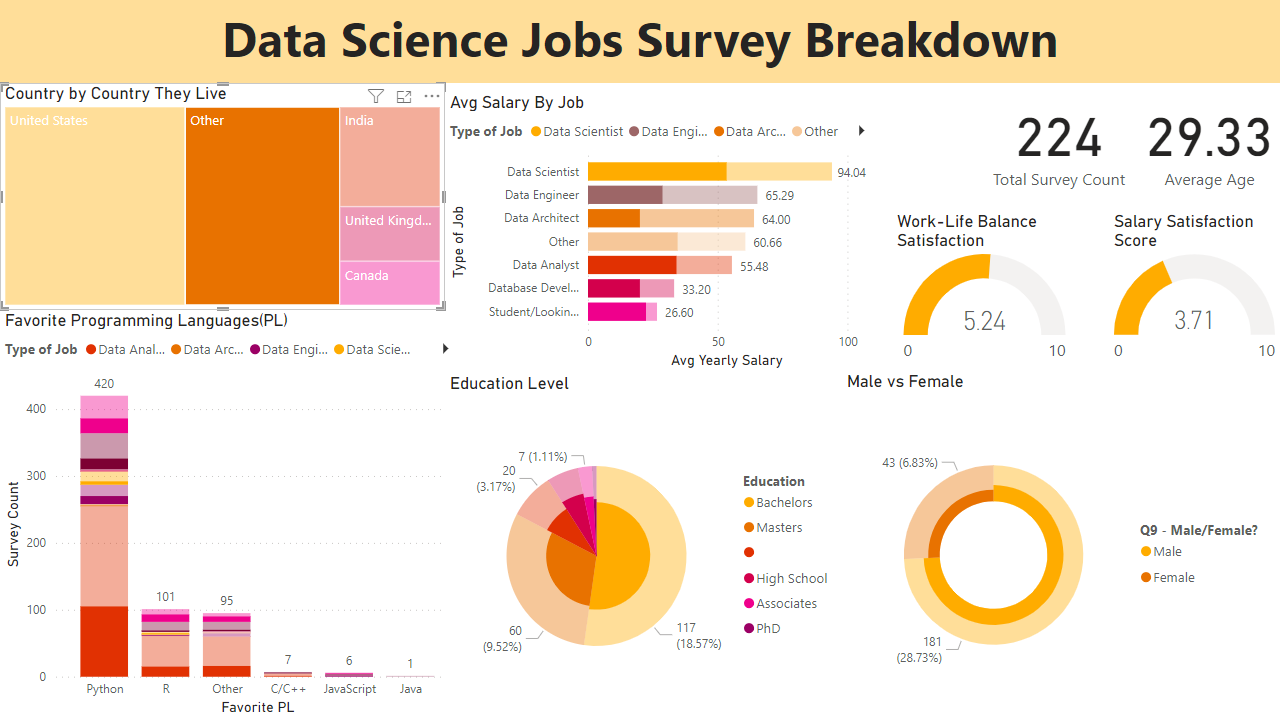

This screenshot's page, from the dashboard's own definition file:
{"tool":"powerbi","page":{"name":"Page 1","canvas":[1280,720],"ordinal":0},"visuals":[{"type":"textbox","box":[0,0,1280,83.2],"z":0},{"type":"card","fields":{"Values":["Count(Data Professional Survey.Unique ID)"]},"box":[978.7,84,159.9,111.7],"z":1000},{"type":"card","fields":{"Values":["Avg(Data Professional Survey.Q10 - Current Age)"]},"box":[1138.6,84,141.4,111.7],"z":2000},{"type":"barChart","title":"Avg Salary By Job","fields":{"Category":["Data Professional Survey.Q1 - Which Title Best Fits your Current Role?.1"],"Y":["Avg(Data Professional Survey.Average Salary)"],"Series":["Data Professional Survey.Q1 - Which Title Best Fits your Current Role?.1"]},"box":[444.8,92.5,436.6,280.4],"z":3000},{"type":"columnChart","title":"Favorite Programming Languages(PL)","fields":{"Category":["Data Professional Survey.Q5 - Favorite Programming Language.1"],"Y":["Count(Data Professional Survey.Unique ID)"],"Series":["Data Professional Survey.Q1 - Which Title Best Fits your Current Role?.1"]},"box":[0,310.2,465.4,409.9],"z":4000},{"type":"treemap","fields":{"Group":["Data Professional Survey.Q11 - Which Country do you live in?.1"],"Values":["CountNonNull(Data Professional Survey.Q11 - Which Country do you live in?.1)"]},"box":[0,83.2,444.8,227],"z":5000},{"type":"donutChart","title":"Male vs Female","fields":{"Y":["CountNonNull(Data Professional Survey.Q9 - Male/Female?)"],"Category":["Data Professional Survey.Q9 - Male/Female?","Data Professional Survey.Q11 - Which Country do you live in?.1"]},"box":[842.4,370.9,437.6,349.3],"z":6000},{"type":"gauge","title":"Salary Satisfaction Score","fields":{"Y":["Avg(Data Professional Survey.Q6 - How Happy are you in your Current Position with the following? (Salary))"],"MinValue":["Min(Data Professional Survey.Q6 - How Happy are you in your Current Position with the following? (Salary))"],"MaxValue":["Max(Data Professional Survey.Q6 - How Happy are you in your Current Position with the following? (Salary))"]},"box":[1109.5,210.6,170.5,160.3],"z":7000},{"type":"gauge","title":"Work-Life Balance Satisfaction","fields":{"Y":["Avg(Data Professional Survey.Q6 - How Happy are you in your Current Position with the following? (Work/Life Balance))"],"MinValue":["Min(Data Professional Survey.Q6 - How Happy are you in your Current Position with the following? (Work/Life Balance))"],"MaxValue":["Max(Data Professional Survey.Q6 - How Happy are you in your Current Position with the following? (Work/Life Balance))"]},"box":[891.7,210.6,184.9,160.3],"z":8000},{"type":"pieChart","title":"Education Level","fields":{"Y":["CountNonNull(Data Professional Survey.Q12 - Highest Level of Education)"],"Category":["Data Professional Survey.Q12 - Highest Level of Education"]},"box":[444.8,372.9,397.6,347.2],"z":9000}]}

Visuals, with their boxes in screenshot pixels (x1, y1, x2, y2), scaled from the page's 1280x720 canvas onto the 1280x719 screenshot:
textbox: [x1=0, y1=0, x2=1279, y2=83]
card - Count(Data Professional Survey.Unique ID): [x1=979, y1=84, x2=1139, y2=195]
card - Avg(Data Professional Survey.Q10 - Current Age): [x1=1139, y1=84, x2=1279, y2=195]
"Avg Salary By Job" barChart: [x1=445, y1=92, x2=881, y2=372]
"Favorite Programming Languages(PL)" columnChart: [x1=0, y1=310, x2=465, y2=718]
treemap - Data Professional Survey.Q11 - Which Country do you live in?.1 x CountNonNull(Data Professional Survey.Q11 - Which Country do you live in?.1): [x1=0, y1=83, x2=445, y2=310]
"Male vs Female" donutChart: [x1=842, y1=370, x2=1279, y2=718]
"Salary Satisfaction Score" gauge: [x1=1110, y1=210, x2=1279, y2=370]
"Work-Life Balance Satisfaction" gauge: [x1=892, y1=210, x2=1077, y2=370]
"Education Level" pieChart: [x1=445, y1=372, x2=842, y2=718]
